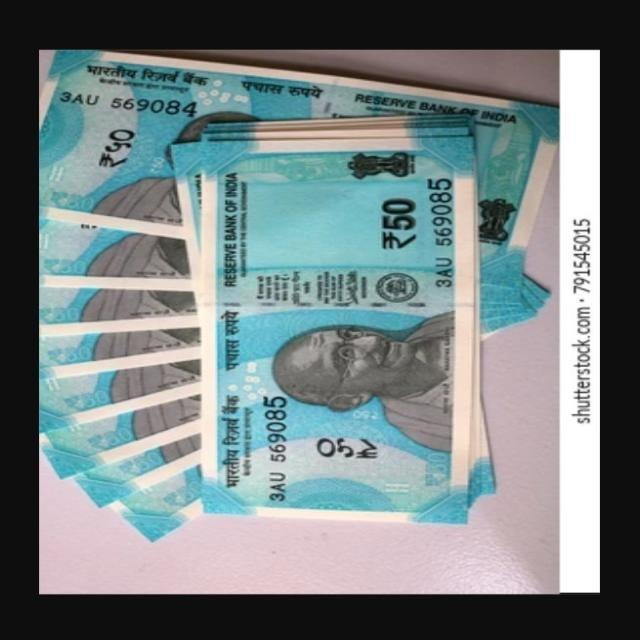50IndianRupees: (196, 139, 487, 513)
